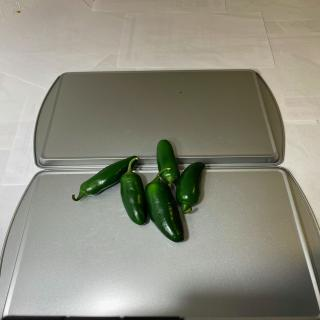Chilli: (71, 155, 138, 201), (144, 168, 184, 242), (120, 157, 148, 226), (175, 161, 206, 214), (156, 139, 180, 187)
